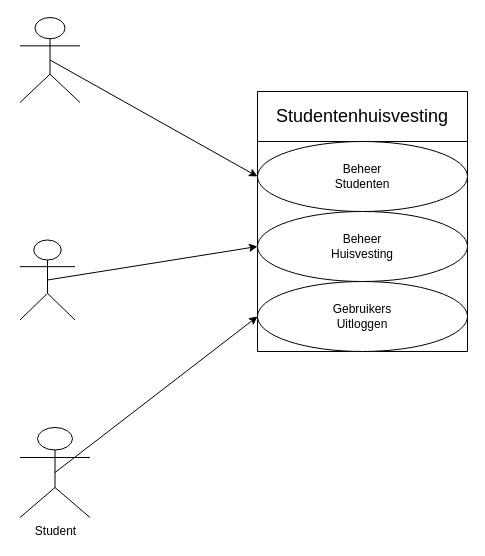
Some shapes in this 485 by 556 pixel diagram are drawn without their labels. The shapes that lost their labels are listed below. From the top down, each one's centre as x and y in pixels, then its label:
the point at 49,59: Medewerker
the point at 47,279: Aanbieder
